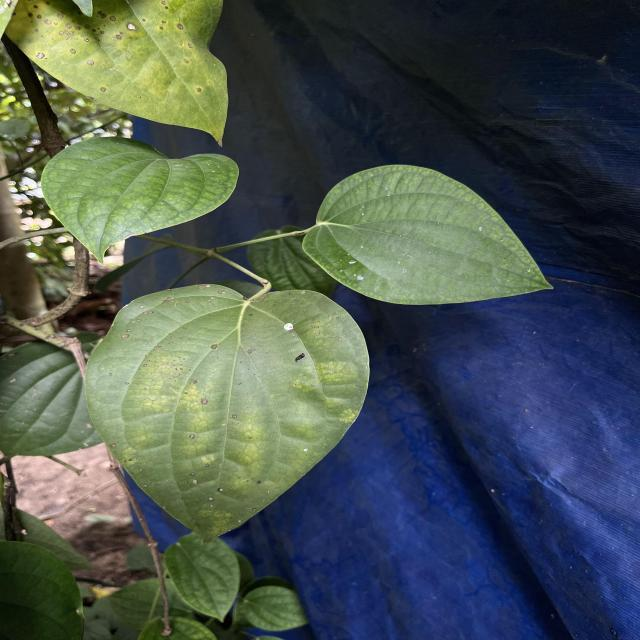Piper nigrum: (84, 282, 372, 546), (300, 163, 556, 306), (40, 134, 242, 268)
